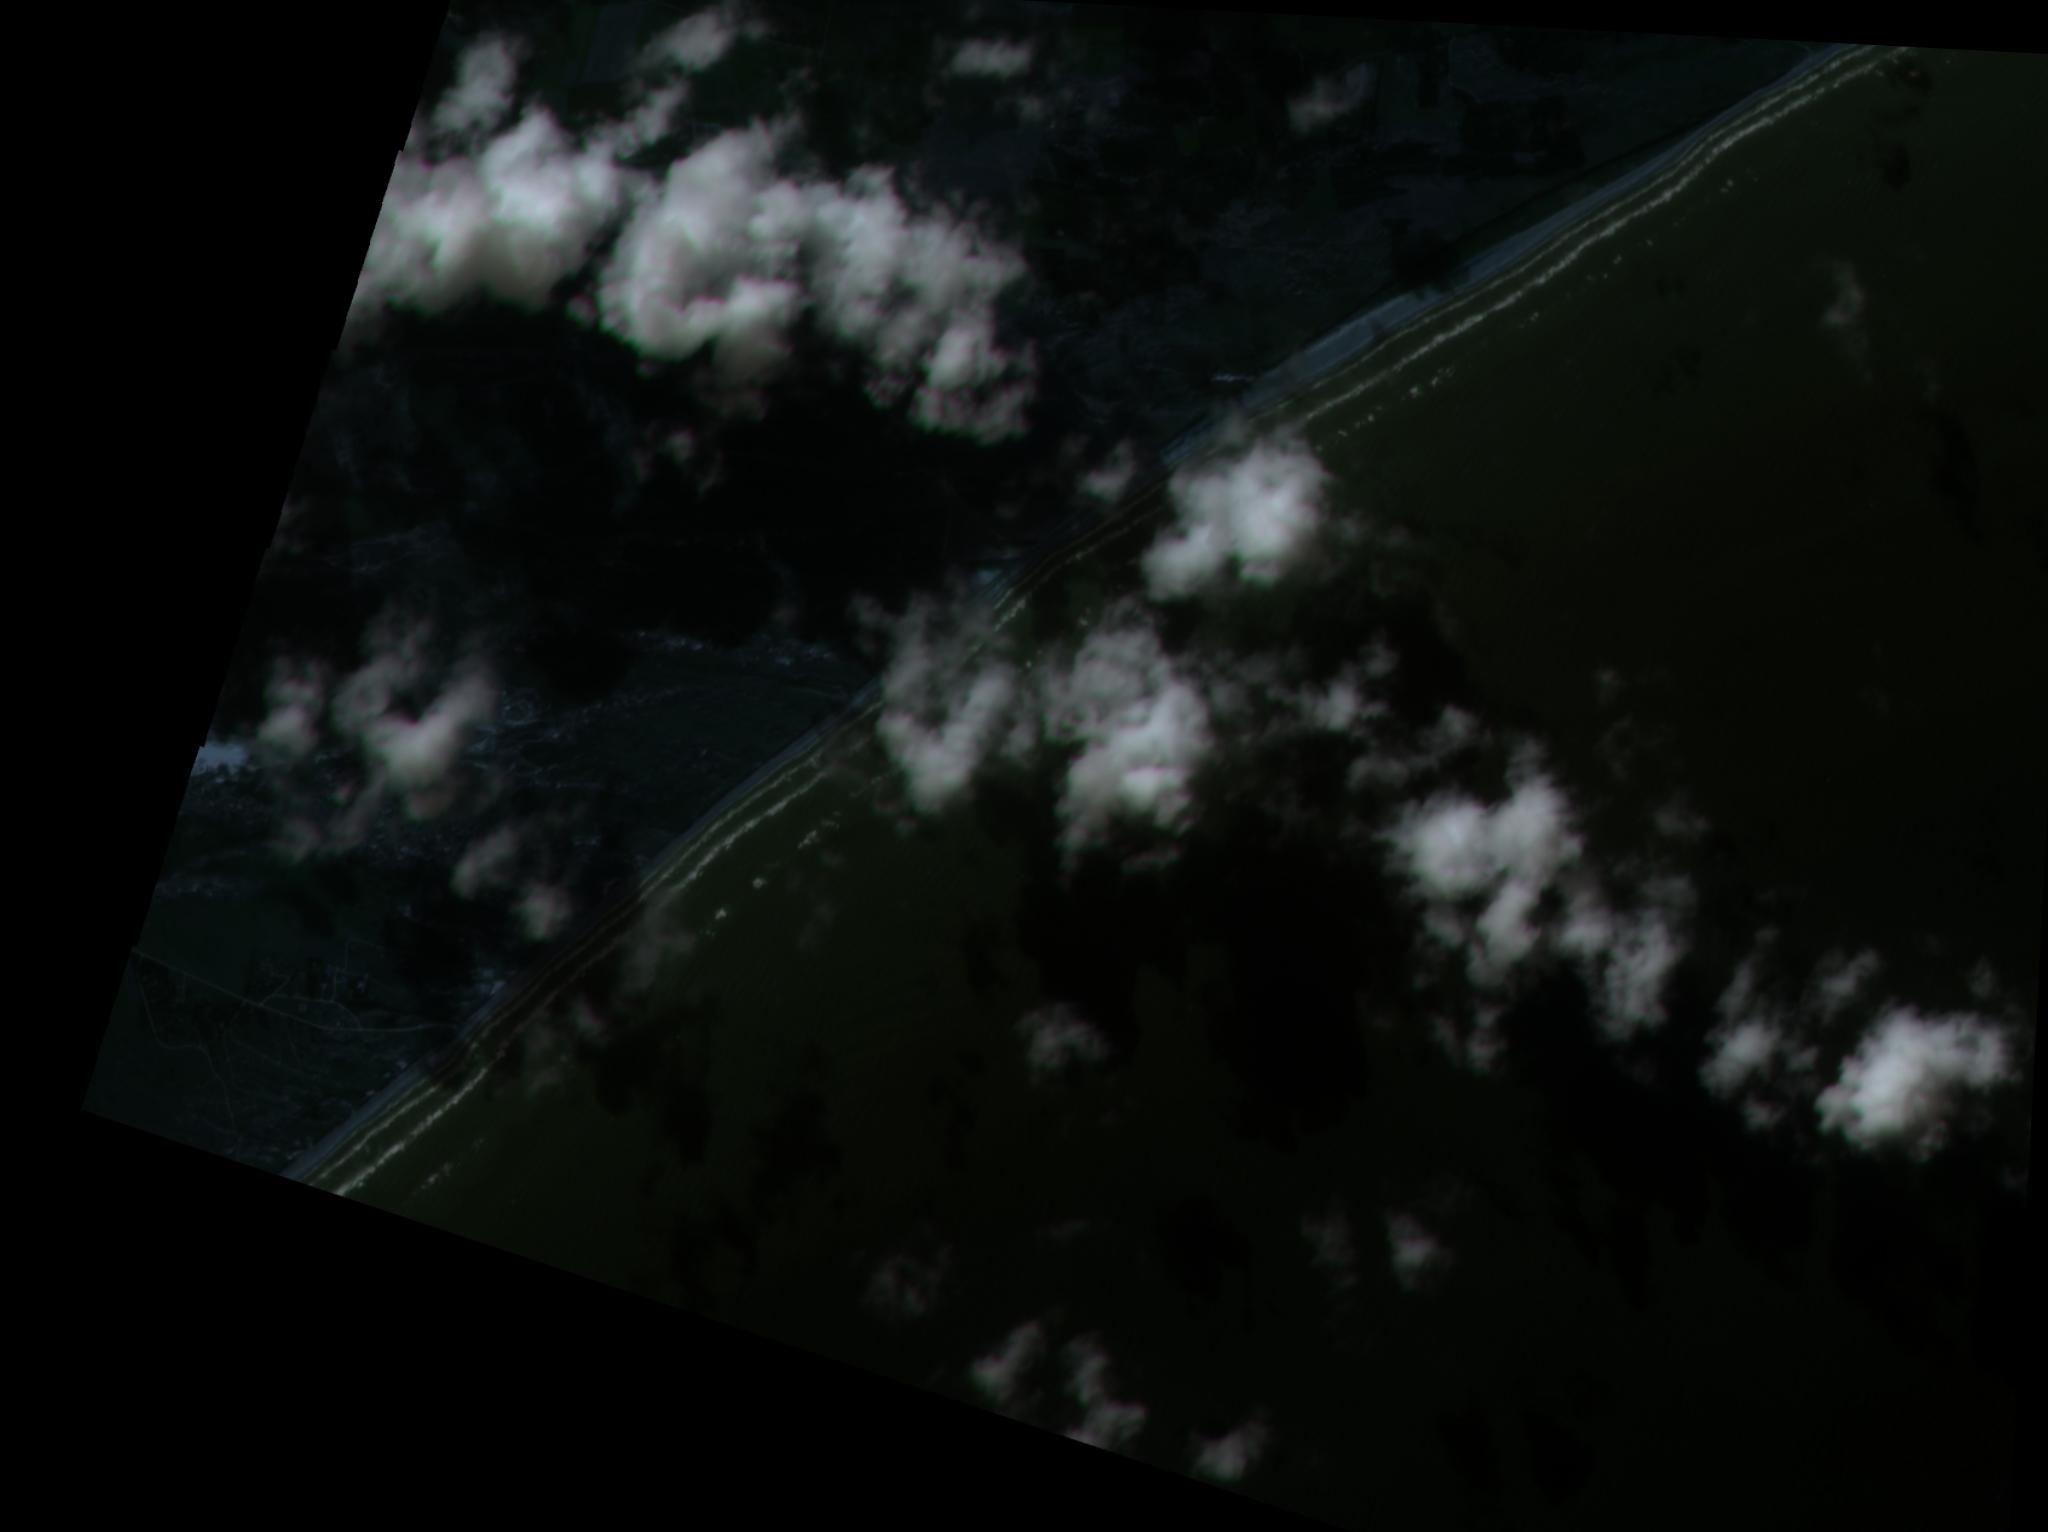ship: (346, 0, 1041, 283), (1430, 681, 1602, 1081), (959, 1318, 1120, 1456), (957, 669, 1131, 792), (449, 809, 573, 954), (613, 0, 756, 93), (1171, 1392, 1289, 1489), (977, 991, 1088, 1091), (441, 37, 513, 154), (843, 1252, 946, 1320), (1812, 90, 1868, 188), (1807, 945, 1869, 1019), (1384, 1192, 1441, 1270), (134, 692, 182, 779), (1160, 488, 1287, 518), (1963, 956, 2005, 1001), (1700, 1043, 1808, 1054), (1914, 1065, 1914, 1078)
